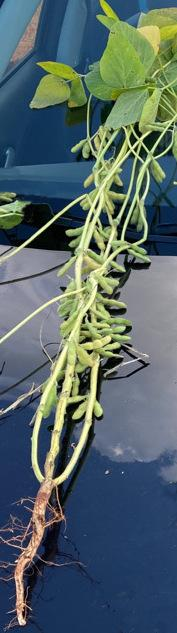soja: (91, 293, 138, 309), (128, 247, 160, 270), (57, 255, 81, 284), (45, 384, 62, 423), (80, 337, 112, 356), (147, 115, 174, 136), (95, 269, 115, 296), (60, 222, 96, 237), (55, 311, 83, 330), (80, 163, 99, 190), (127, 238, 151, 259), (73, 398, 91, 425), (68, 385, 89, 408), (102, 316, 139, 329), (84, 190, 102, 216), (91, 396, 108, 423), (73, 348, 97, 367), (67, 132, 87, 152), (65, 340, 79, 368), (153, 160, 174, 178), (102, 188, 131, 201), (96, 277, 127, 289), (73, 190, 96, 206), (110, 333, 138, 346), (138, 209, 153, 233), (81, 321, 110, 333), (92, 228, 107, 251), (102, 197, 120, 216), (148, 167, 164, 188), (73, 374, 84, 404), (128, 204, 143, 226), (88, 255, 104, 275), (98, 344, 130, 353), (76, 143, 95, 157), (68, 236, 86, 248), (114, 172, 125, 188)
